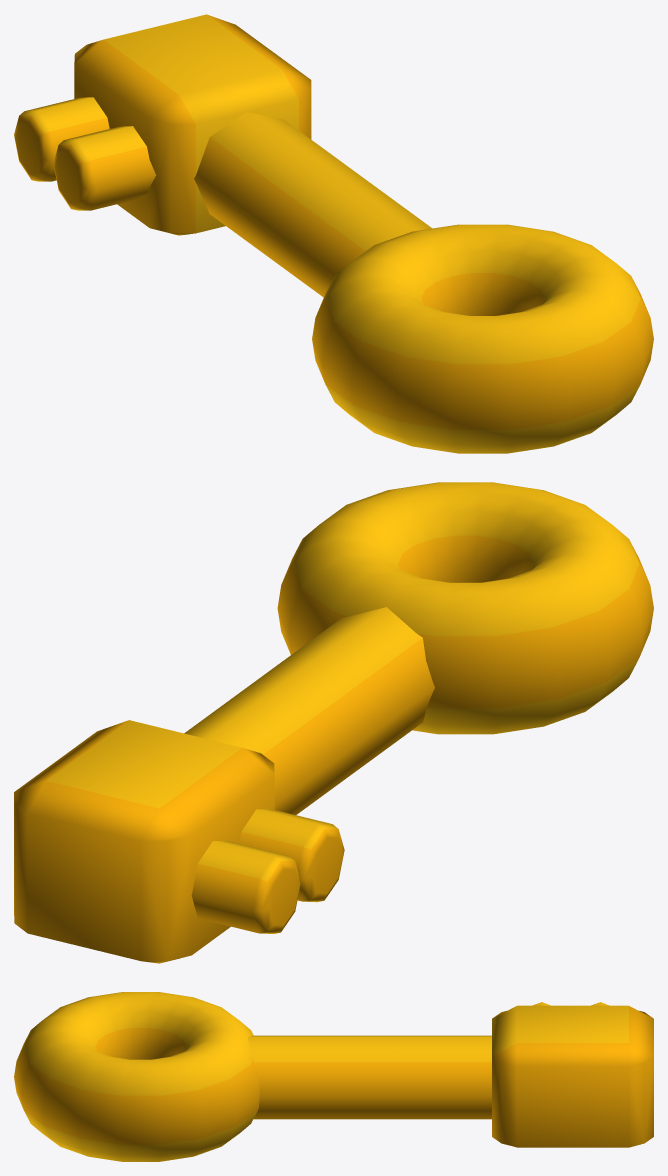
File: Key.fbx
The picture shows the model from 3 angles, top to bottom: view 1: azimuth 30°, elevation 25°; view 2: azimuth 150°, elevation 25°; view 3: azimuth 270°, elevation 25°; orthographic projection. The views are drawn at different scales.
Visible parts, largest first — view 1: Key1; view 2: Key1; view 3: Key1.
Part boxes in pixels (x1,y1,x2,y2): Key1: [14, 14, 653, 453]; Key1: [14, 482, 653, 963]; Key1: [14, 992, 653, 1161].
Bounding box in the file's own units: 22.15 × 10.23 × 56.72.
